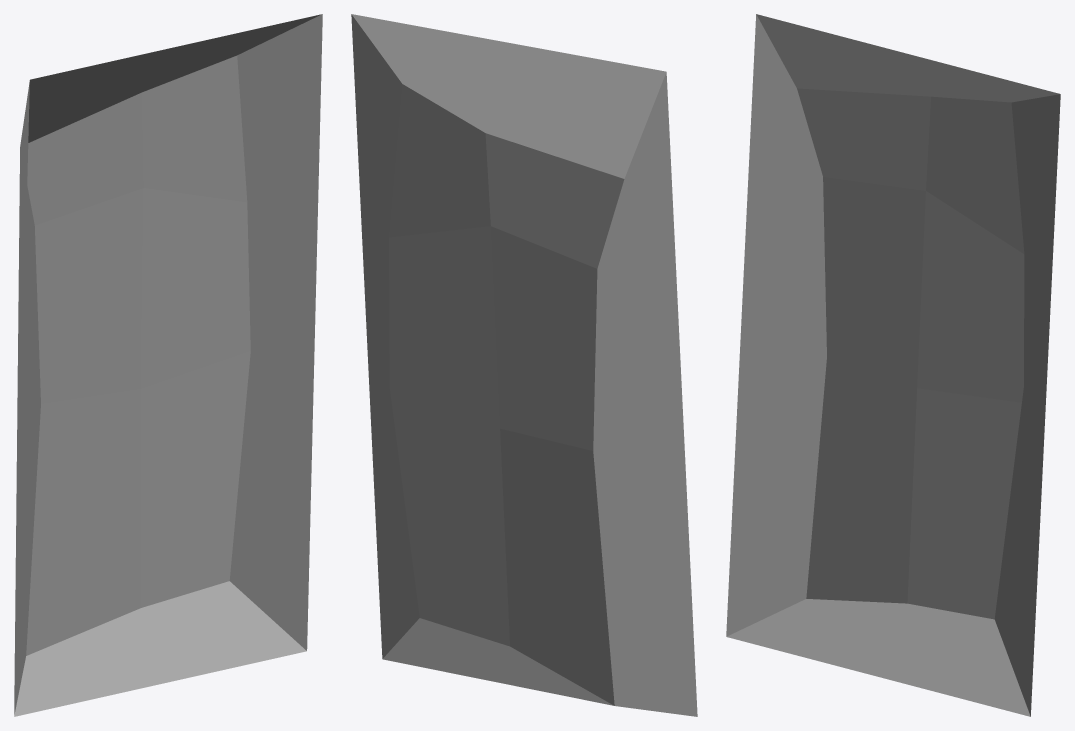
File: Rock_002.fbx
The picture shows the model from 3 angles, left to right: view 1: azimuth 30°, elevation 25°; view 2: azimuth 150°, elevation 25°; view 3: azimuth 330°, elevation 25°; orthographic projection. The views are drawn at different scales.
Parts seen in each view (by area): view 1: Rock.002; view 2: Rock.002; view 3: Rock.002.
Boxes of the visible parts, x1,y1,x2,y2 form: Rock.002: (14, 14, 322, 716); Rock.002: (351, 14, 697, 716); Rock.002: (726, 14, 1060, 716).
Size of the model in its own units: 2.15 by 4.07 by 0.4526.
